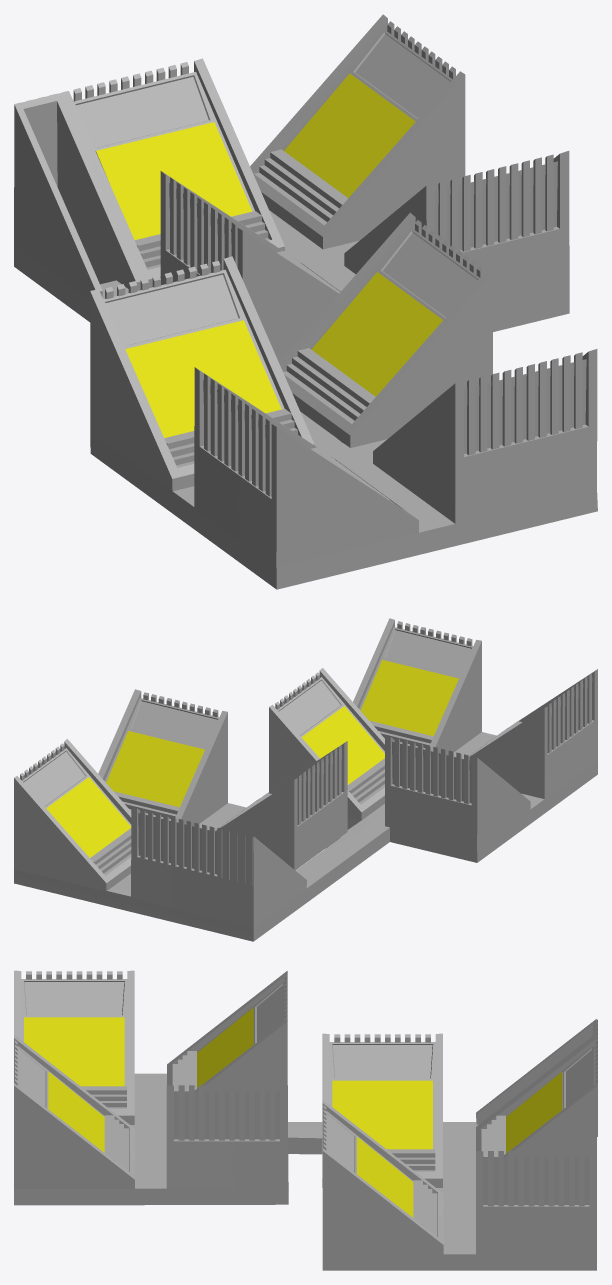
File: piso6.fbx
3 views of the same model, one above another, from view 1: azimuth 30°, elevation 25°; view 2: azimuth 150°, elevation 25°; view 3: azimuth 270°, elevation 25° (orthographic). The views are drawn at different scales.
Parts seen in each view (by area): view 1: piso_0_6; view 2: piso_0_6; view 3: piso_0_6.
Boxes of the visible parts, x1,y1,x2,y2 form: piso_0_6: (14,14,597,589); piso_0_6: (14,618,597,941); piso_0_6: (14,970,597,1270).
Bounding box in the file's own units: 3218 × 994 × 4400.
Materials: 1 (1 with a texture image).
